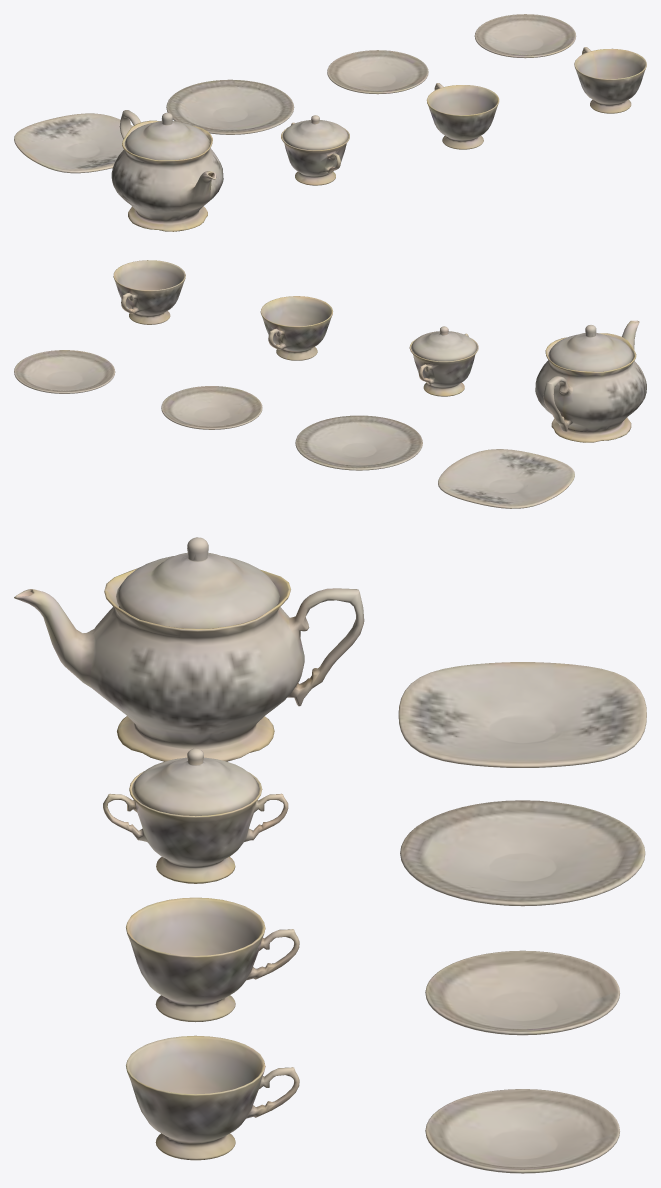
File: th_teeservice.glb
The picture shows the model from 3 angles, top to bottom: view 1: azimuth 30°, elevation 25°; view 2: azimuth 150°, elevation 25°; view 3: azimuth 270°, elevation 25°; orthographic projection. The views are drawn at different scales.
Visible parts, largest first — view 1: tea_set_01_teapot_01, tea_set_01_plate_large_circular_03, tea_set_01_plate_large_square_01, tea_set_01_cup_small_01, tea_set_01_cup_small_02, tea_set_01_saucer_circular_03, tea_set_01_saucer_circular_04, tea_set_01_teapot_01_lid, tea_set_01_sugar_cup_01, tea_set_01_sugar_cup_01_lid; view 2: tea_set_01_teapot_01, tea_set_01_plate_large_square_01, tea_set_01_plate_large_circular_03, tea_set_01_cup_small_01, tea_set_01_cup_small_02, tea_set_01_saucer_circular_04, tea_set_01_saucer_circular_03, tea_set_01_teapot_01_lid, tea_set_01_sugar_cup_01, tea_set_01_sugar_cup_01_lid; view 3: tea_set_01_teapot_01, tea_set_01_plate_large_square_01, tea_set_01_plate_large_circular_03, tea_set_01_cup_small_01, tea_set_01_cup_small_02, tea_set_01_saucer_circular_03, tea_set_01_saucer_circular_04, tea_set_01_teapot_01_lid, tea_set_01_sugar_cup_01, tea_set_01_sugar_cup_01_lid.
Part boxes in pixels (box(x1,y1,x2,y2)): tea_set_01_teapot_01: box(111, 110, 223, 231); tea_set_01_plate_large_circular_03: box(166, 79, 294, 134); tea_set_01_plate_large_square_01: box(14, 113, 133, 173); tea_set_01_cup_small_01: box(426, 83, 499, 149); tea_set_01_cup_small_02: box(574, 47, 646, 113); tea_set_01_saucer_circular_03: box(474, 14, 576, 58); tea_set_01_saucer_circular_04: box(327, 50, 428, 94); tea_set_01_teapot_01_lid: box(124, 112, 209, 160); tea_set_01_sugar_cup_01: box(281, 122, 349, 185); tea_set_01_sugar_cup_01_lid: box(282, 115, 348, 150); tea_set_01_teapot_01: box(535, 320, 646, 442); tea_set_01_plate_large_square_01: box(438, 449, 574, 508); tea_set_01_plate_large_circular_03: box(295, 415, 422, 470); tea_set_01_cup_small_01: box(260, 296, 332, 360); tea_set_01_cup_small_02: box(113, 260, 185, 324); tea_set_01_saucer_circular_04: box(161, 386, 262, 429); tea_set_01_saucer_circular_03: box(14, 350, 115, 393); tea_set_01_teapot_01_lid: box(548, 325, 633, 371); tea_set_01_sugar_cup_01: box(409, 333, 478, 396); tea_set_01_sugar_cup_01_lid: box(411, 326, 477, 361); tea_set_01_teapot_01: box(14, 568, 364, 761); tea_set_01_plate_large_square_01: box(398, 662, 646, 767); tea_set_01_plate_large_circular_03: box(400, 800, 645, 906); tea_set_01_cup_small_01: box(126, 897, 299, 1022); tea_set_01_cup_small_02: box(126, 1035, 299, 1160); tea_set_01_saucer_circular_03: box(425, 1089, 619, 1173); tea_set_01_saucer_circular_04: box(425, 950, 619, 1035); tea_set_01_teapot_01_lid: box(116, 537, 279, 628); tea_set_01_sugar_cup_01: box(103, 771, 288, 883); tea_set_01_sugar_cup_01_lid: box(131, 748, 259, 816).
Size of the model in its own units: 0.9185 by 0.165 by 0.4839.
Materials: 1 (1 with a texture image).
